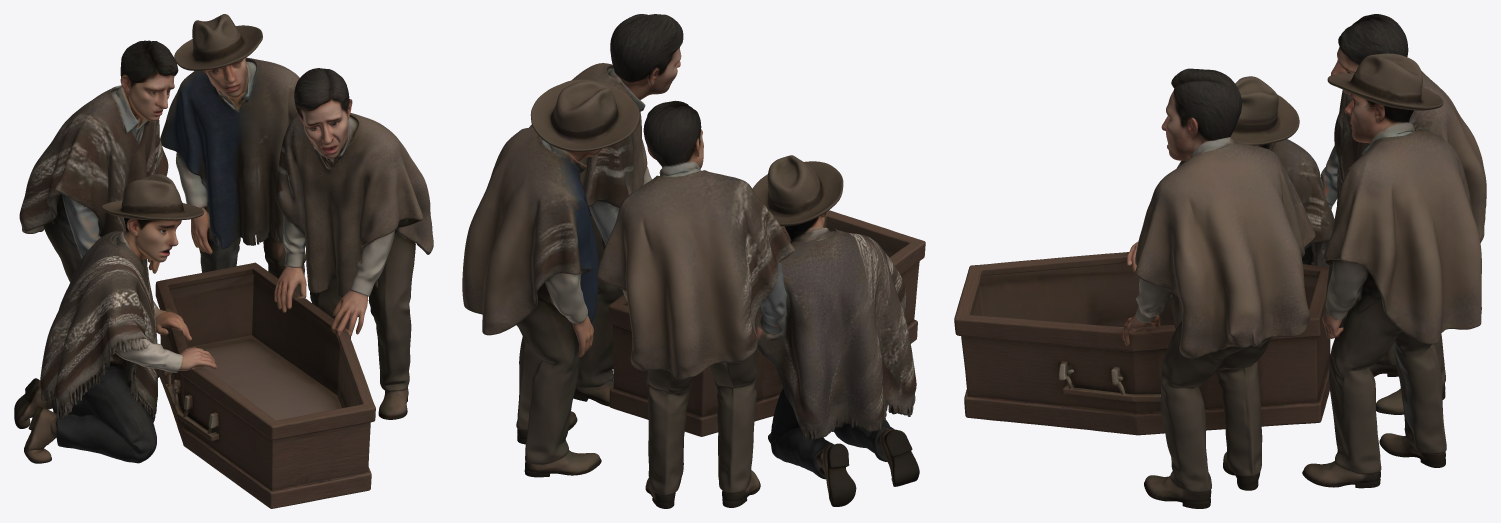
File: 45-las-cruces-de-la-vereda-optimized.glb
The picture shows the model from 3 angles, left to right: view 1: azimuth 30°, elevation 25°; view 2: azimuth 150°, elevation 25°; view 3: azimuth 270°, elevation 25°; orthographic projection. The views are drawn at different scales.
Parts seen in each view (by area): view 1: tripo_node_5025fd99-9d8b-40bd-853a-7321f258aa2f; view 2: tripo_node_5025fd99-9d8b-40bd-853a-7321f258aa2f; view 3: tripo_node_5025fd99-9d8b-40bd-853a-7321f258aa2f.
Part boxes in pixels (bbox=[...]): tripo_node_5025fd99-9d8b-40bd-853a-7321f258aa2f: bbox=[14, 14, 433, 508]; tripo_node_5025fd99-9d8b-40bd-853a-7321f258aa2f: bbox=[462, 14, 925, 508]; tripo_node_5025fd99-9d8b-40bd-853a-7321f258aa2f: bbox=[954, 14, 1486, 508].
Size of the model in its own units: 0.9687 by 0.8184 by 1.
1 material, 1 textured.
